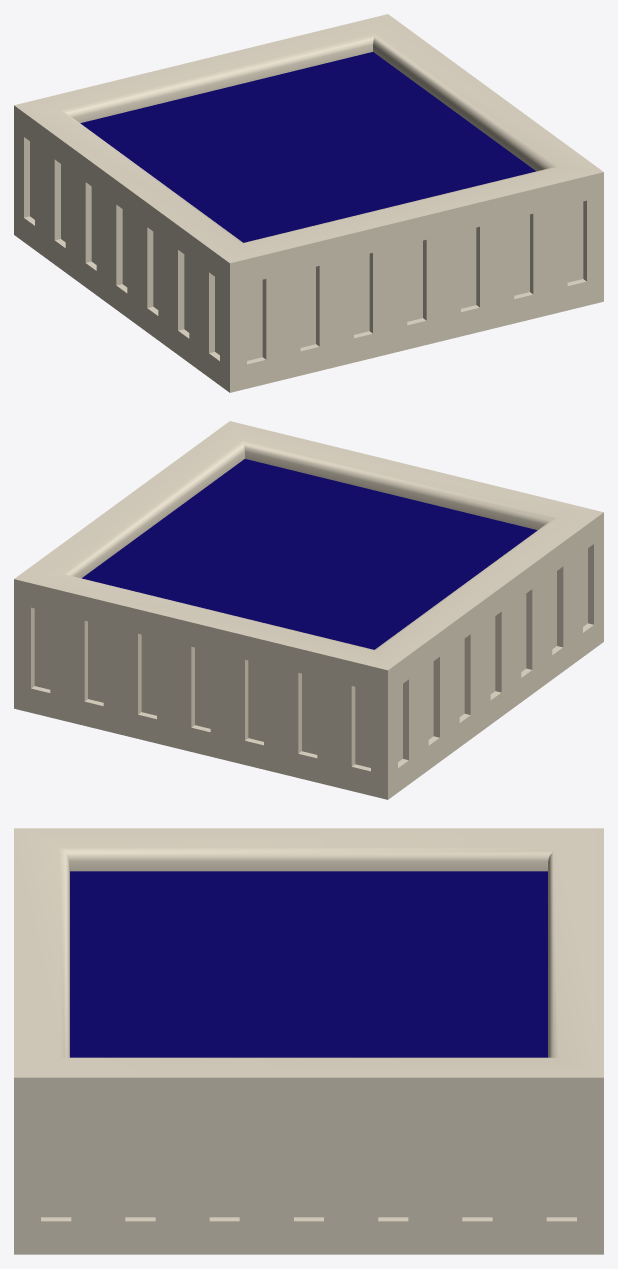
File: FlyingPlatform.fbx
3 views of the same model, one above another, from view 1: azimuth 30°, elevation 25°; view 2: azimuth 150°, elevation 25°; view 3: azimuth 270°, elevation 25° (orthographic). The views are drawn at different scales.
Visible parts, largest first — view 1: Platform; view 2: Platform; view 3: Platform.
Boxes of the visible parts, x1,y1,x2,y2 form: Platform: (14,14,603,392); Platform: (14,421,603,799); Platform: (14,828,603,1254).
Size of the model in its own units: 2.87 by 1.27 by 2.87.
